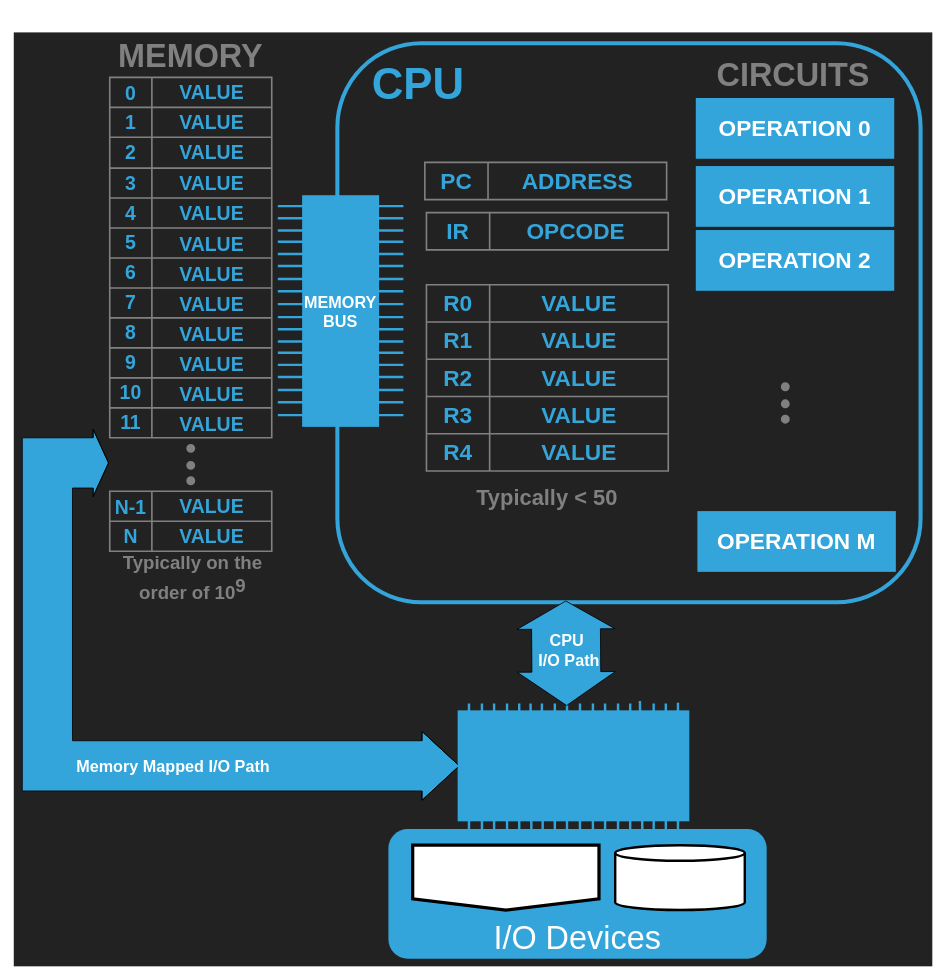
The diagram is 946 pixels wide and 980 high, and some of its shapes have lost their labels. Each missing label, with the centre of its shape:
"Communication Devices" belongs at [505,877].
"I/O BUS" belongs at [573,765].
"Storage Devices" belongs at [680,877].
